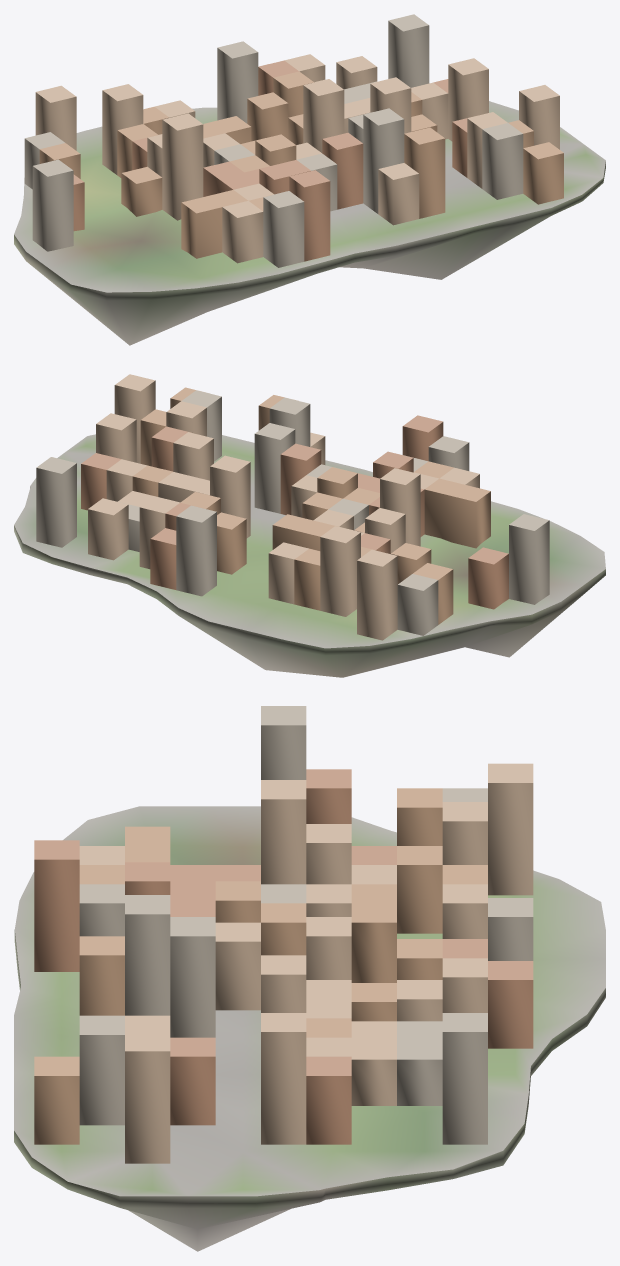
File: SKY-092.lod1.glb
3 renders of one model, top to bottom at view 1: azimuth 30°, elevation 25°; view 2: azimuth 150°, elevation 25°; view 3: azimuth 270°, elevation 25°, orthographic. The views are drawn at different scales.
Visible parts, largest first — view 1: warren_hull, deck, rock; view 2: warren_hull, deck, rock; view 3: warren_hull, deck, rock.
Boxes of the visible parts, <box> form: warren_hull: <box>24,14,563,267</box>; deck: <box>14,101,605,292</box>; rock: <box>14,162,605,345</box>; warren_hull: <box>36,374,549,640</box>; deck: <box>14,434,605,648</box>; rock: <box>14,487,605,677</box>; warren_hull: <box>34,706,533,1163</box>; deck: <box>14,806,605,1196</box>; rock: <box>14,930,605,1251</box>.
Size of the model in its own units: 122 by 42.65 by 78.29.
